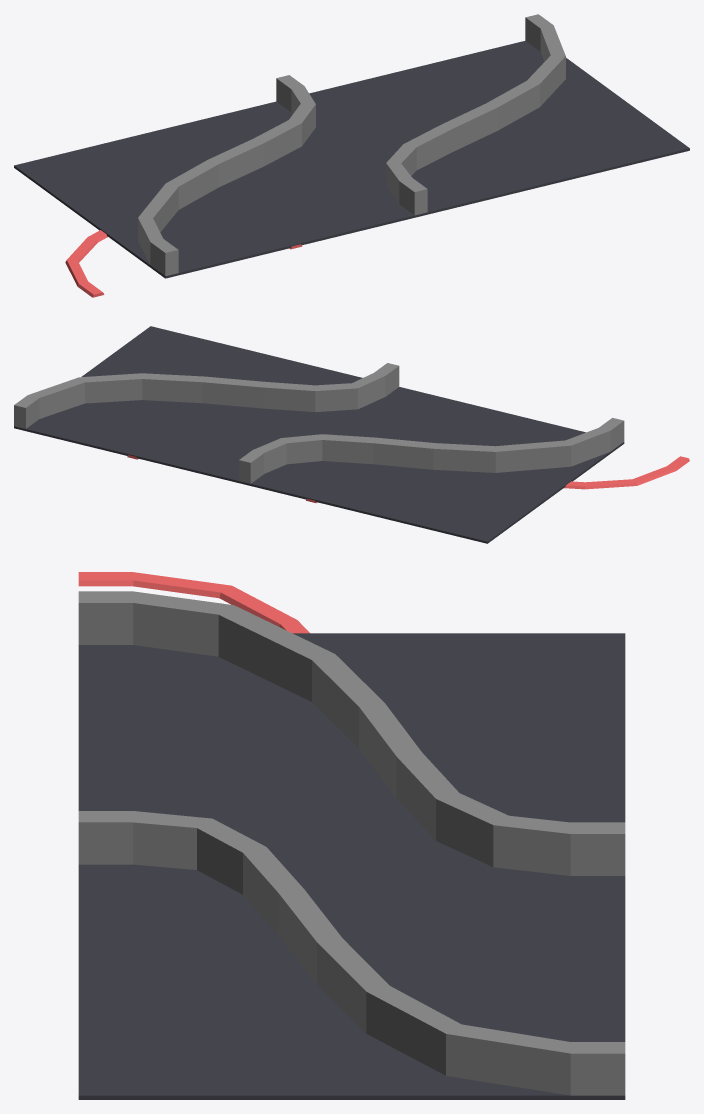
Rendered from kartkids_base_trk_130_chn_scurve_r_2x1.glb.
The picture shows the model from 3 angles, top to bottom: view 1: azimuth 30°, elevation 25°; view 2: azimuth 150°, elevation 25°; view 3: azimuth 270°, elevation 25°; orthographic projection. The views are drawn at different scales.
Visible parts, largest first — view 1: kartkids_base_trk_010_rd_straight_1x1.036, kartkids_base_trk_020_trn_90_l_1x1.034, kartkids_base_trk_020_trn_90_l_1x1.035; view 2: kartkids_base_trk_010_rd_straight_1x1.036, kartkids_base_trk_020_trn_90_l_1x1.034, kartkids_base_trk_020_trn_90_l_1x1.035; view 3: kartkids_base_trk_010_rd_straight_1x1.036, kartkids_base_trk_020_trn_90_l_1x1.034, kartkids_base_trk_020_trn_90_l_1x1.035.
Boxes of the visible parts, x1,y1,x2,y2 form: kartkids_base_trk_010_rd_straight_1x1.036: (14, 40, 689, 278); kartkids_base_trk_020_trn_90_l_1x1.034: (138, 14, 565, 276); kartkids_base_trk_020_trn_90_l_1x1.035: (65, 230, 302, 297); kartkids_base_trk_010_rd_straight_1x1.036: (14, 326, 624, 543); kartkids_base_trk_020_trn_90_l_1x1.034: (14, 363, 624, 483); kartkids_base_trk_020_trn_90_l_1x1.035: (127, 455, 689, 503); kartkids_base_trk_010_rd_straight_1x1.036: (78, 633, 625, 1099); kartkids_base_trk_020_trn_90_l_1x1.034: (78, 591, 625, 1095); kartkids_base_trk_020_trn_90_l_1x1.035: (78, 572, 309, 633).
Size of the model in its own units: 22.77 by 0.9839 by 10.
